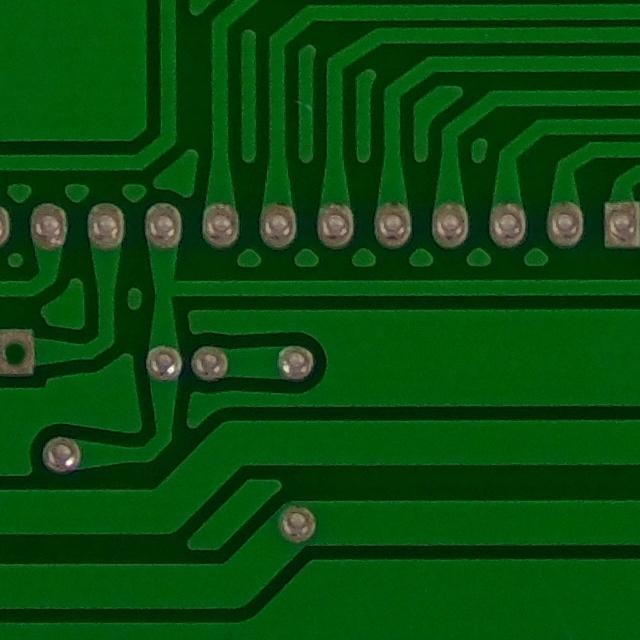missing_hole: (0, 319, 52, 385)
